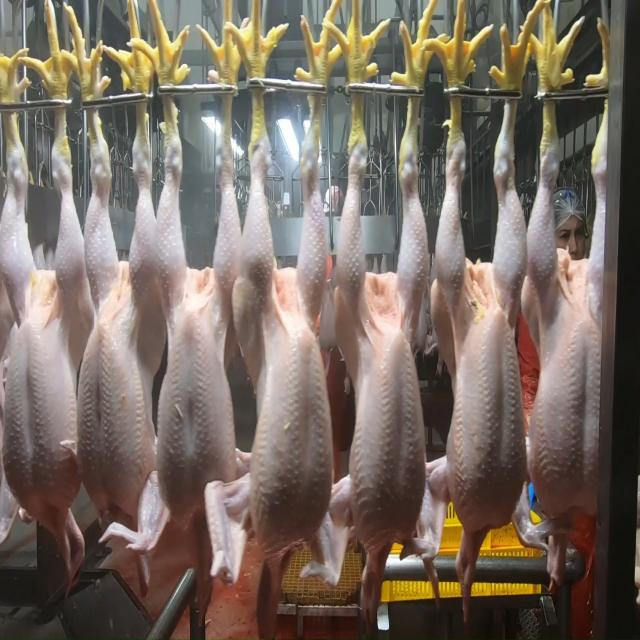chicken: (238, 100, 340, 552), (340, 105, 433, 546), (437, 96, 526, 546), (522, 81, 608, 525), (84, 108, 172, 538), (151, 119, 238, 550), (1, 118, 90, 524)
